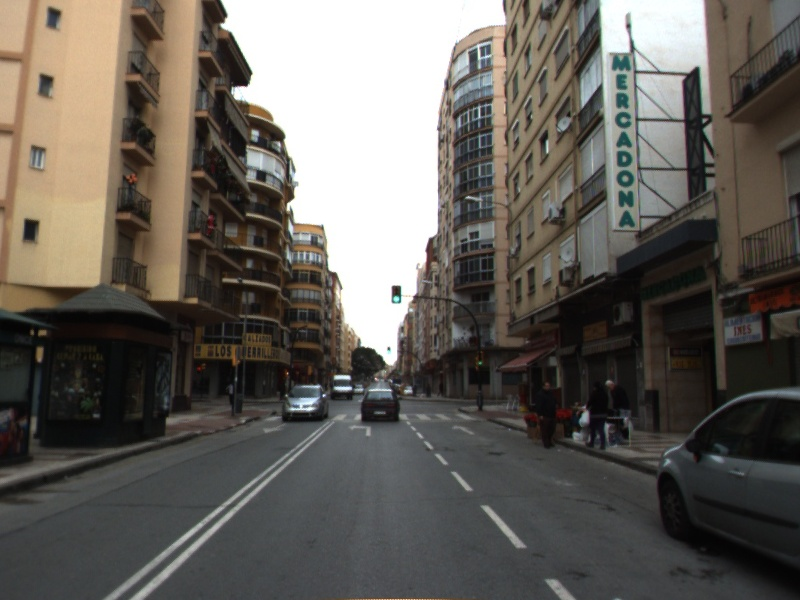LEFT: (347, 423, 373, 438)
STRAIGHT: (450, 423, 476, 436)
